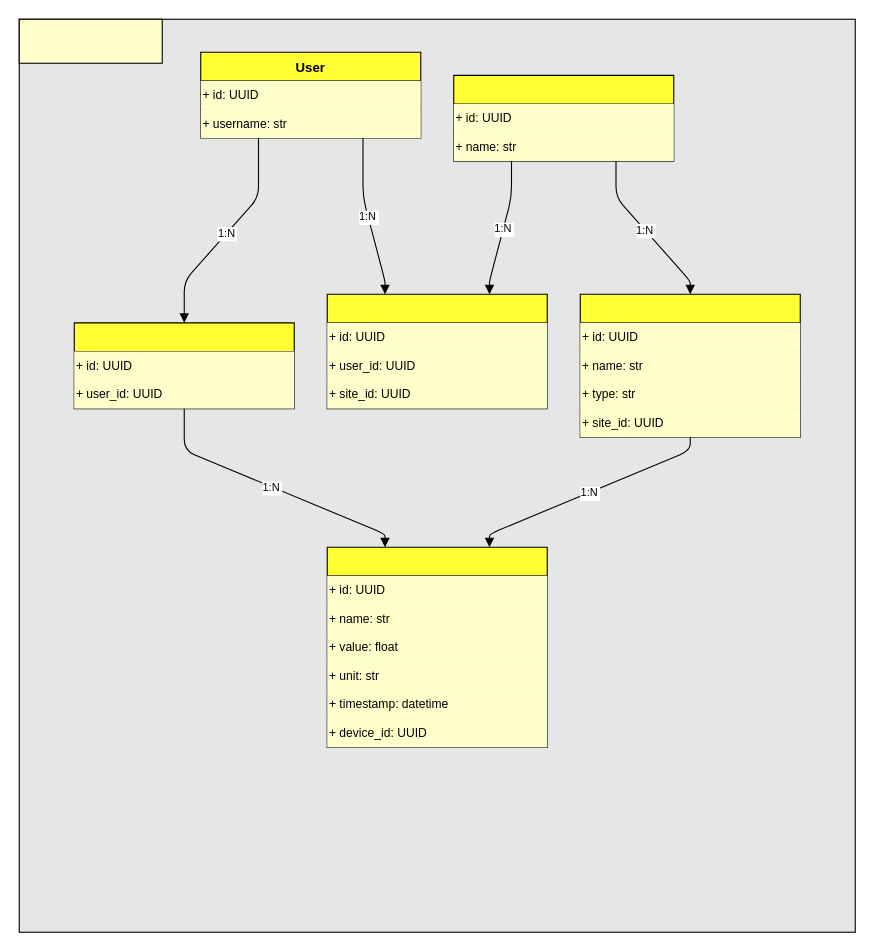
Some shapes in this 875 by 952 pixel diagram are drawn without their labels. Here are the shapes that lost their labels. From the top down, the box of each, then its label:
(18, 18, 162, 63): ER diagram
(453, 74, 674, 161): Site
(73, 322, 294, 409): Subscription
(326, 293, 547, 409): Permission
(579, 293, 800, 437): Device
(326, 546, 547, 747): Metric
